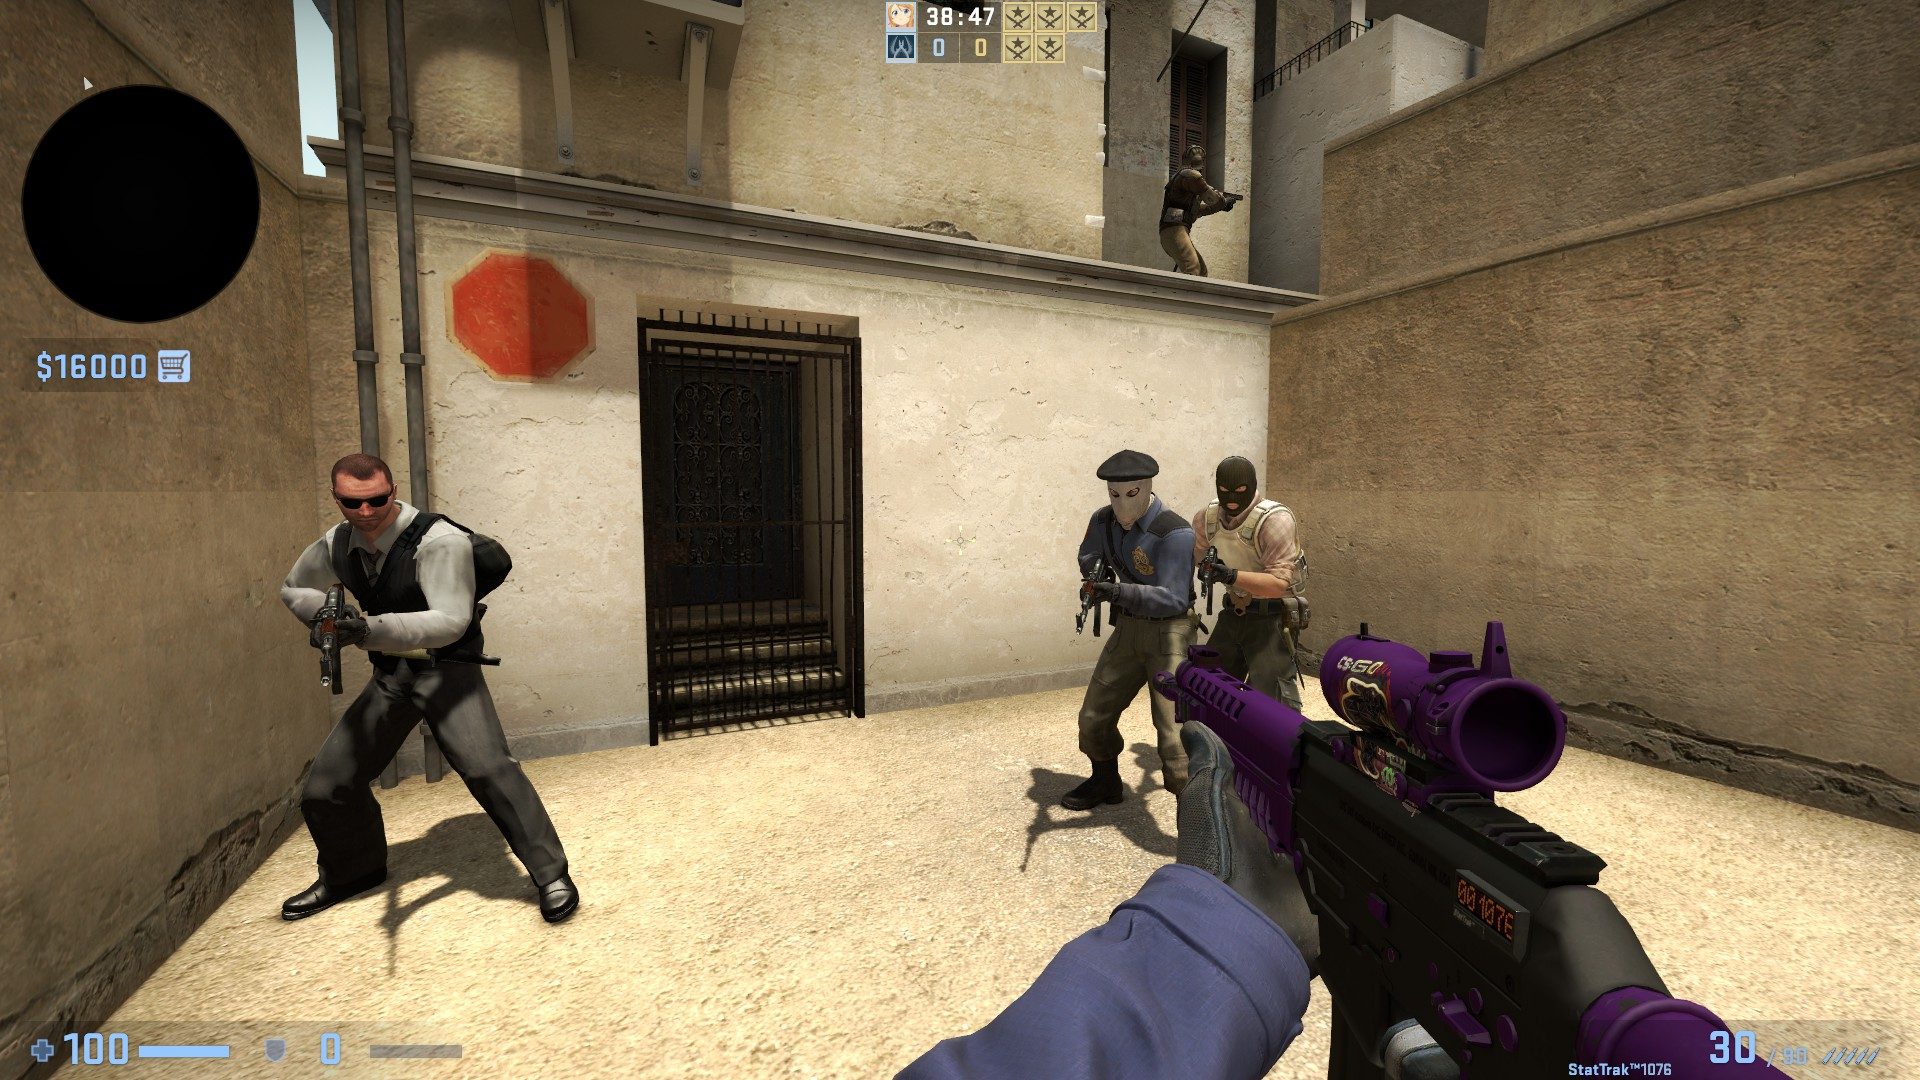head: (326, 451, 397, 530), (1093, 447, 1157, 523), (1214, 451, 1255, 519), (1178, 141, 1208, 172)
